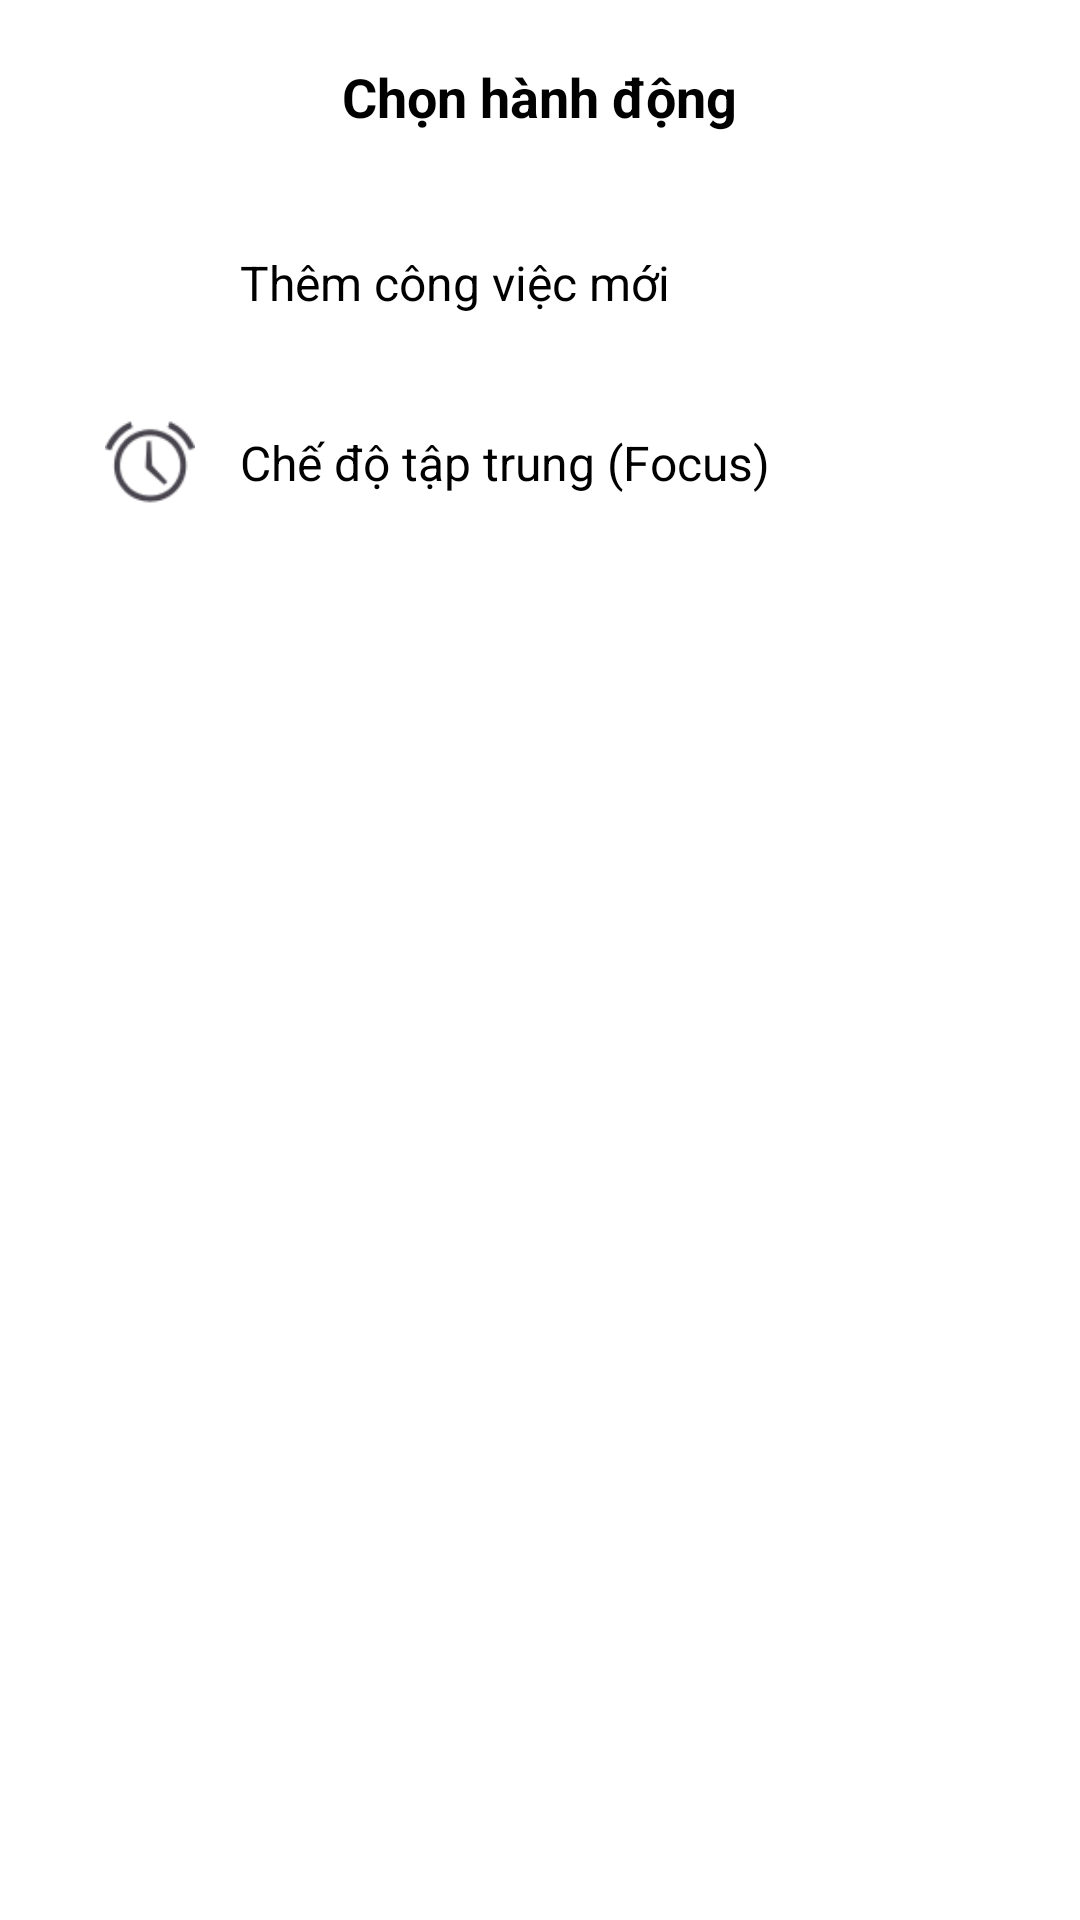

Icons on this 1080w x 1920h Android screen, each with the point to tap as (x,y):
lock idle alarm: (150,462)
